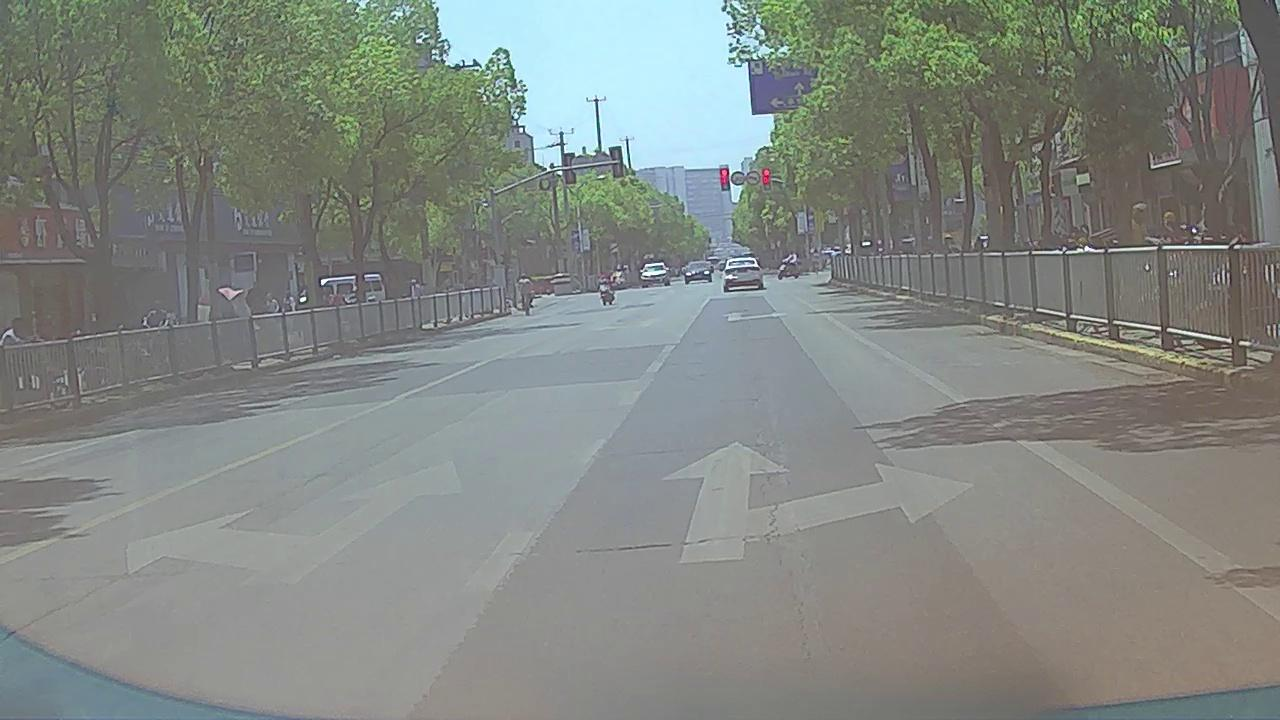traffic_light: (759, 167, 772, 192), (719, 167, 730, 190)
